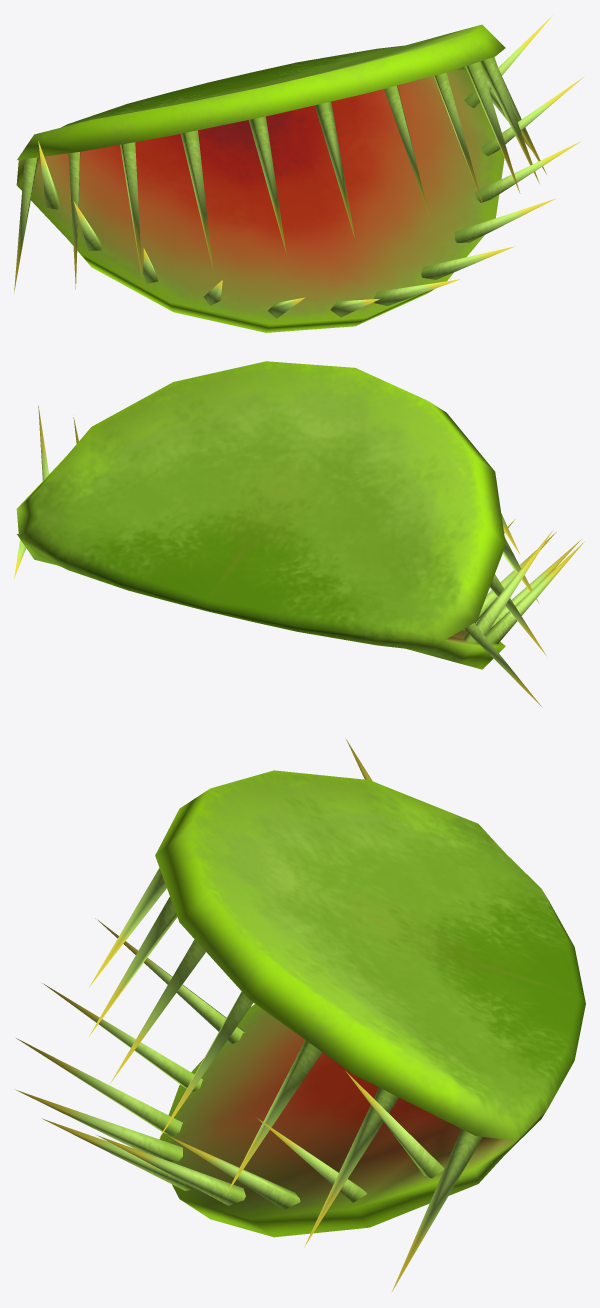
File: venus flytrap.fbx
3 views of the same model, one above another, from view 1: azimuth 30°, elevation 25°; view 2: azimuth 150°, elevation 25°; view 3: azimuth 270°, elevation 25° (orthographic). The views are drawn at different scales.
Parts seen in each view (by area): view 1: venus flytrap.body, venus flytrap.tooth, venus flytrap.tooth.001; view 2: venus flytrap.body, venus flytrap.tooth.001, venus flytrap.tooth; view 3: venus flytrap.body, venus flytrap.tooth.001, venus flytrap.tooth.
Boxes of the visible parts, bbox=[...] form: venus flytrap.body: bbox=[16, 24, 505, 332]; venus flytrap.tooth: bbox=[14, 57, 546, 292]; venus flytrap.tooth.001: bbox=[38, 15, 584, 318]; venus flytrap.body: bbox=[16, 361, 505, 669]; venus flytrap.tooth.001: bbox=[38, 405, 584, 644]; venus flytrap.tooth: bbox=[14, 513, 546, 707]; venus flytrap.body: bbox=[155, 770, 585, 1237]; venus flytrap.tooth.001: bbox=[15, 739, 444, 1209]; venus flytrap.tooth: bbox=[89, 868, 482, 1292].
Bounding box in the file's own units: 230 × 108 × 163.
